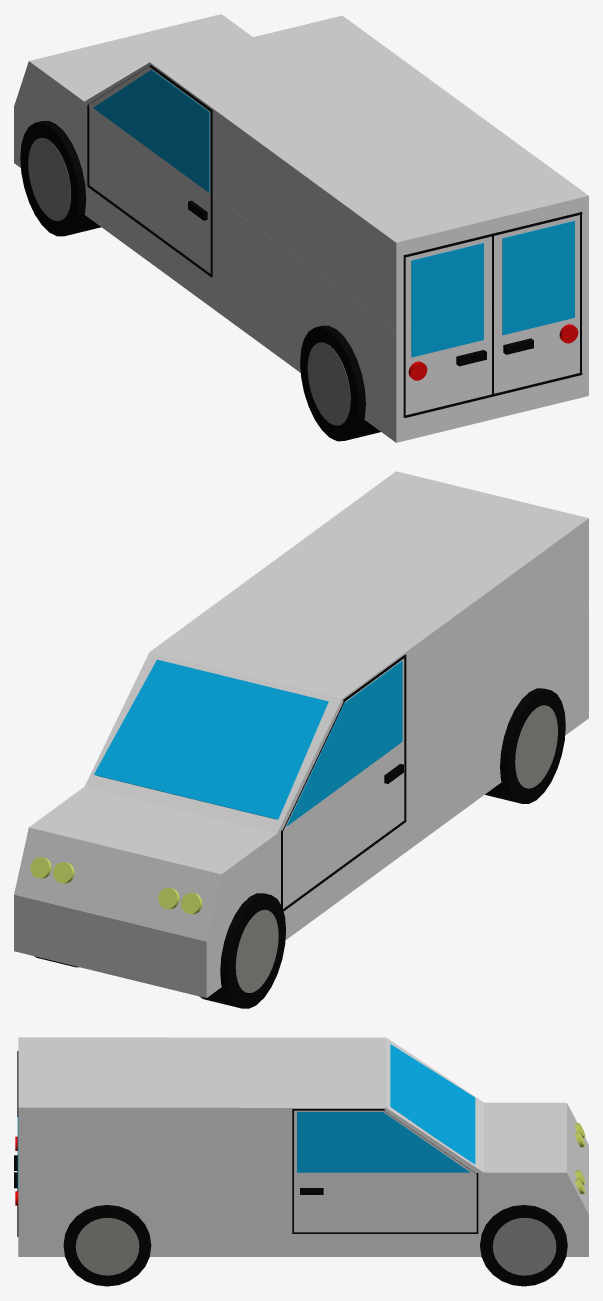
File: ProjektVan.fbx
3 views of the same model, one above another, from view 1: azimuth 30°, elevation 25°; view 2: azimuth 150°, elevation 25°; view 3: azimuth 270°, elevation 25° (orthographic). The views are drawn at different scales.
Parts seen in each view (by area): view 1: body, backDoors, wheels, driverDoor; view 2: body, wheels, driverDoor, frontLights; view 3: body, wheels, passengerDoor, backDoors, frontLights.
Part boxes in pixels (x1,y1,x2,y2): body: [14, 14, 588, 442]; backDoors: [403, 211, 582, 417]; wheels: [20, 121, 380, 441]; driverDoor: [87, 65, 212, 277]; body: [14, 471, 588, 997]; wheels: [34, 688, 565, 1008]; driverDoor: [281, 654, 406, 911]; frontLights: [30, 857, 202, 914]; body: [18, 1037, 588, 1256]; wheels: [63, 1205, 567, 1286]; passengerDoor: [292, 1109, 478, 1233]; backDoors: [14, 1051, 18, 1236]; frontLights: [574, 1123, 585, 1194].
Bounding box in the file's own units: 224 × 245 × 722.
